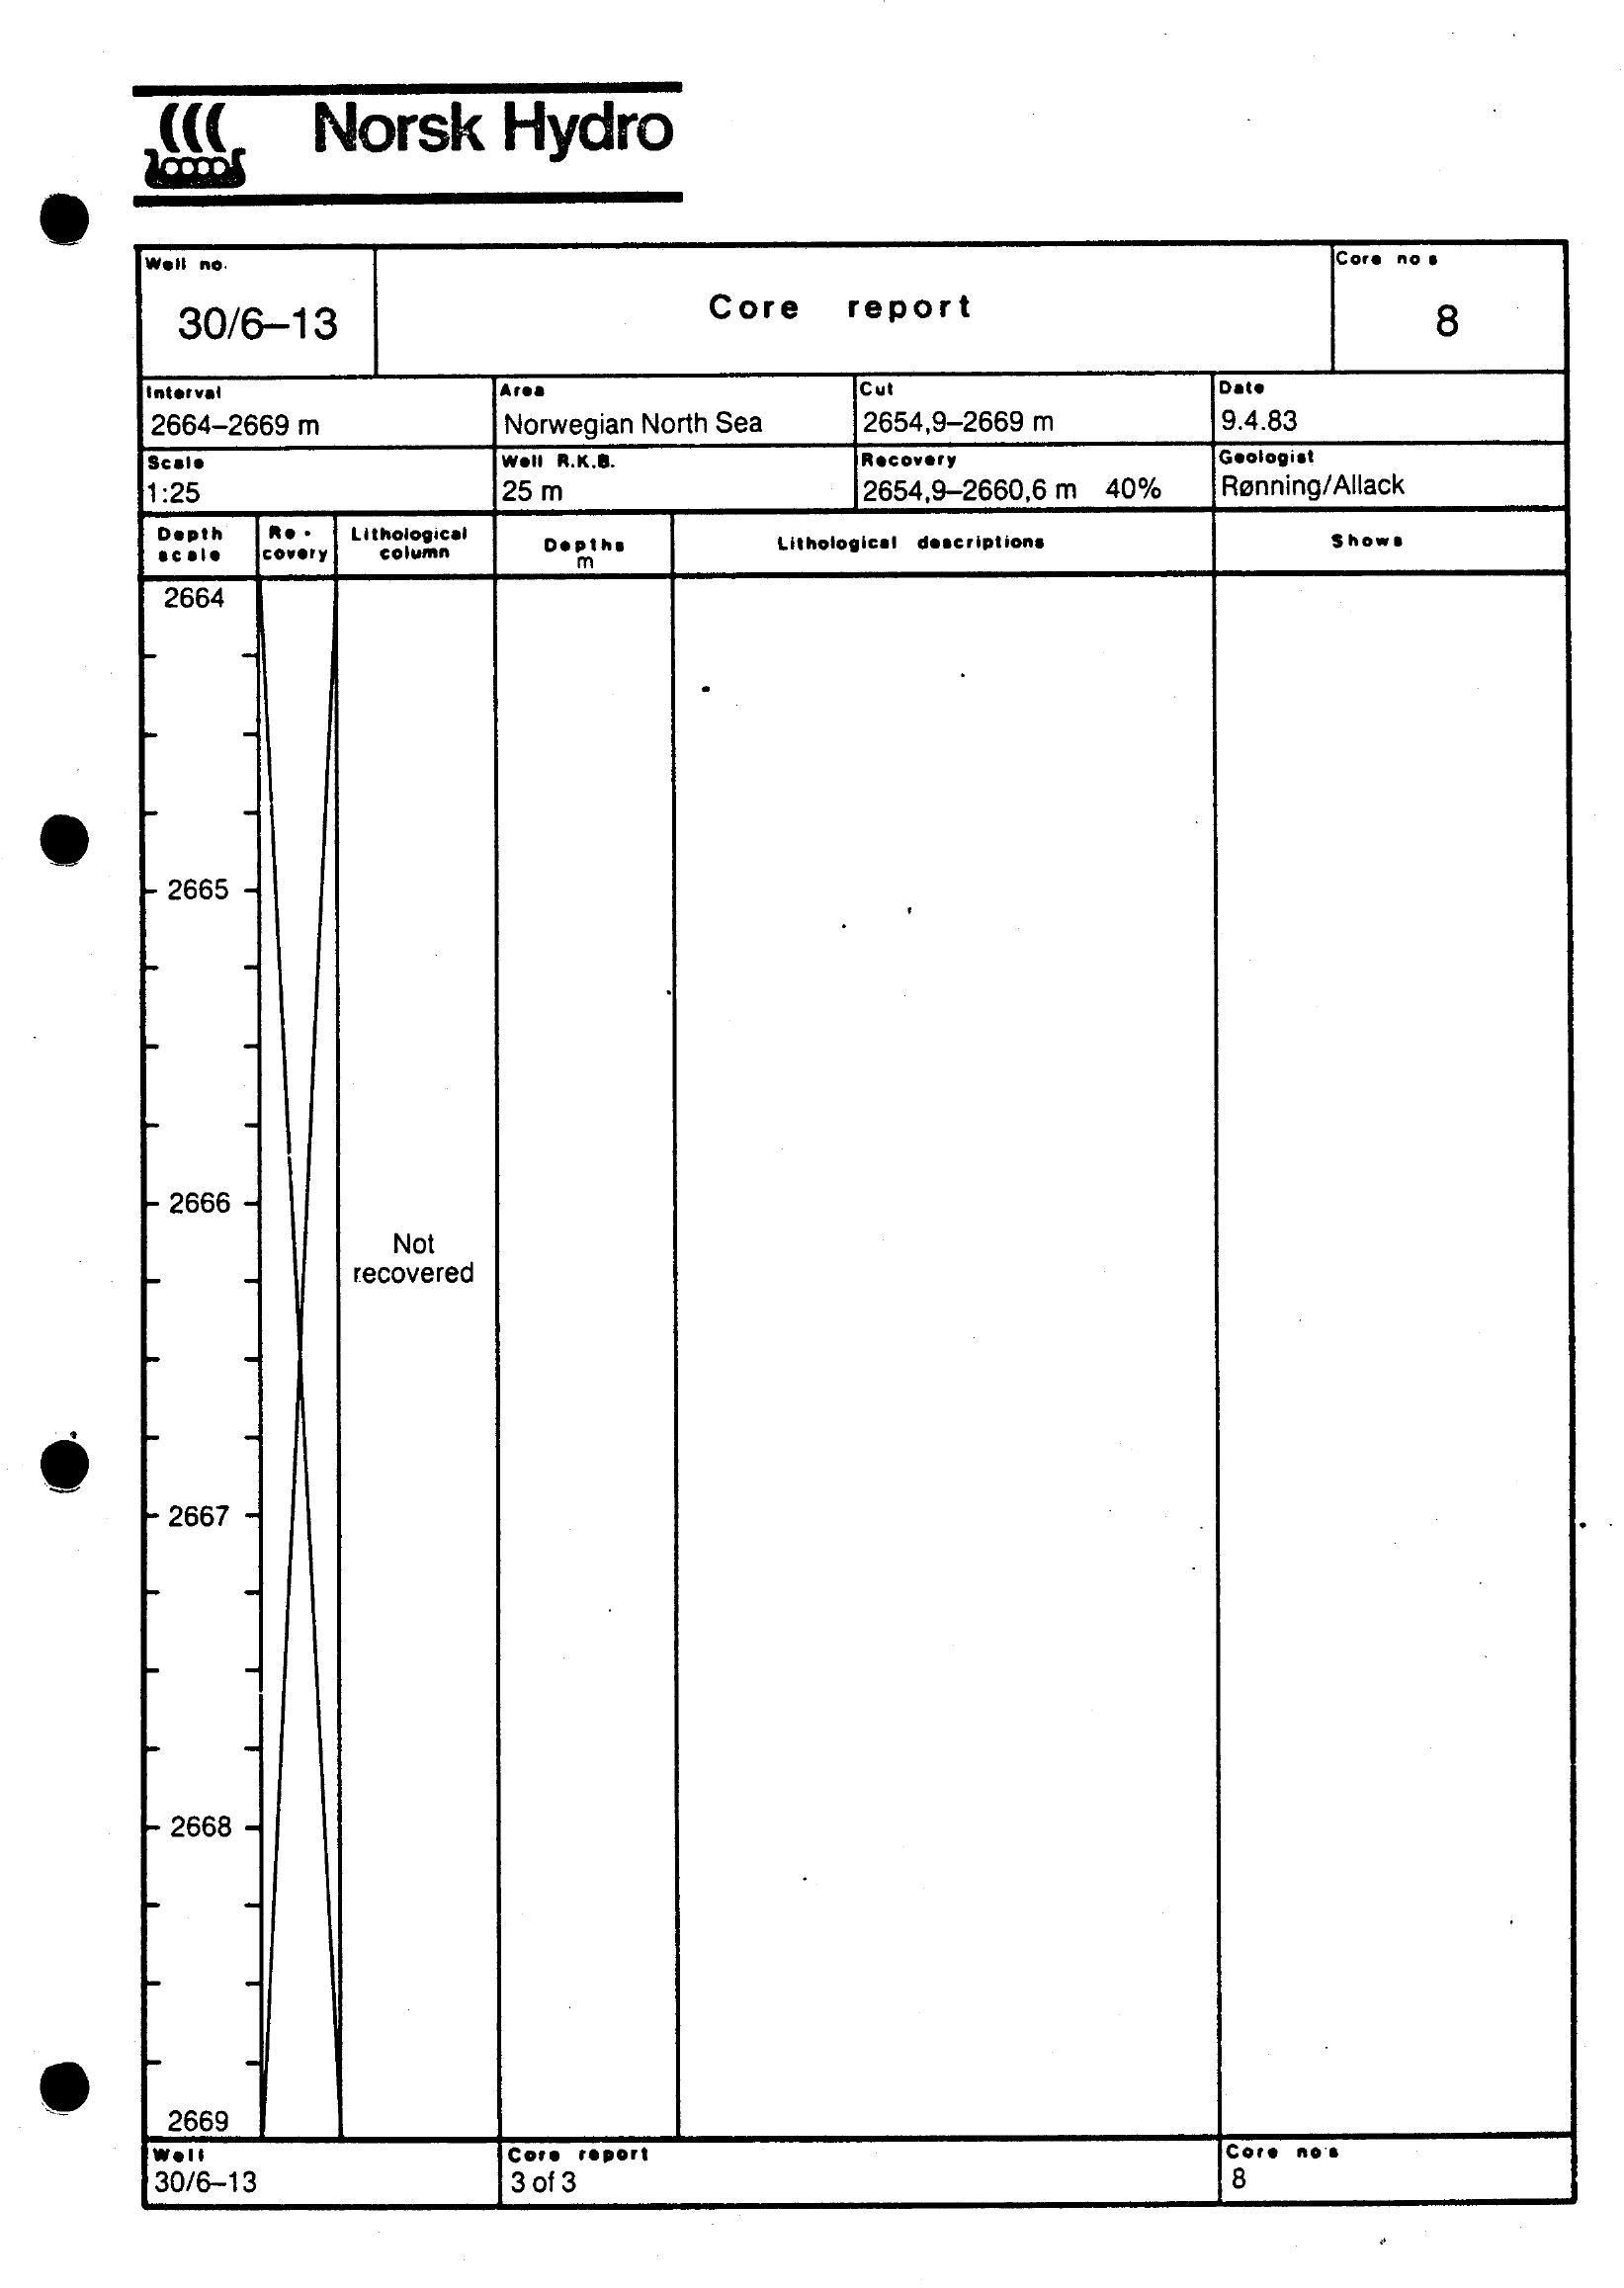graph: (109, 223, 1603, 2235)
undefined: (120, 62, 707, 213)
